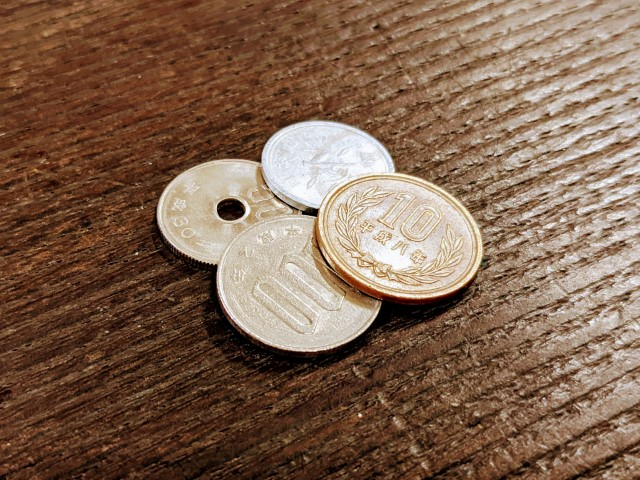100yen: (217, 215, 381, 356)
10yen: (315, 173, 483, 305)
1yen: (261, 120, 396, 215)
50yen: (155, 159, 304, 269)
